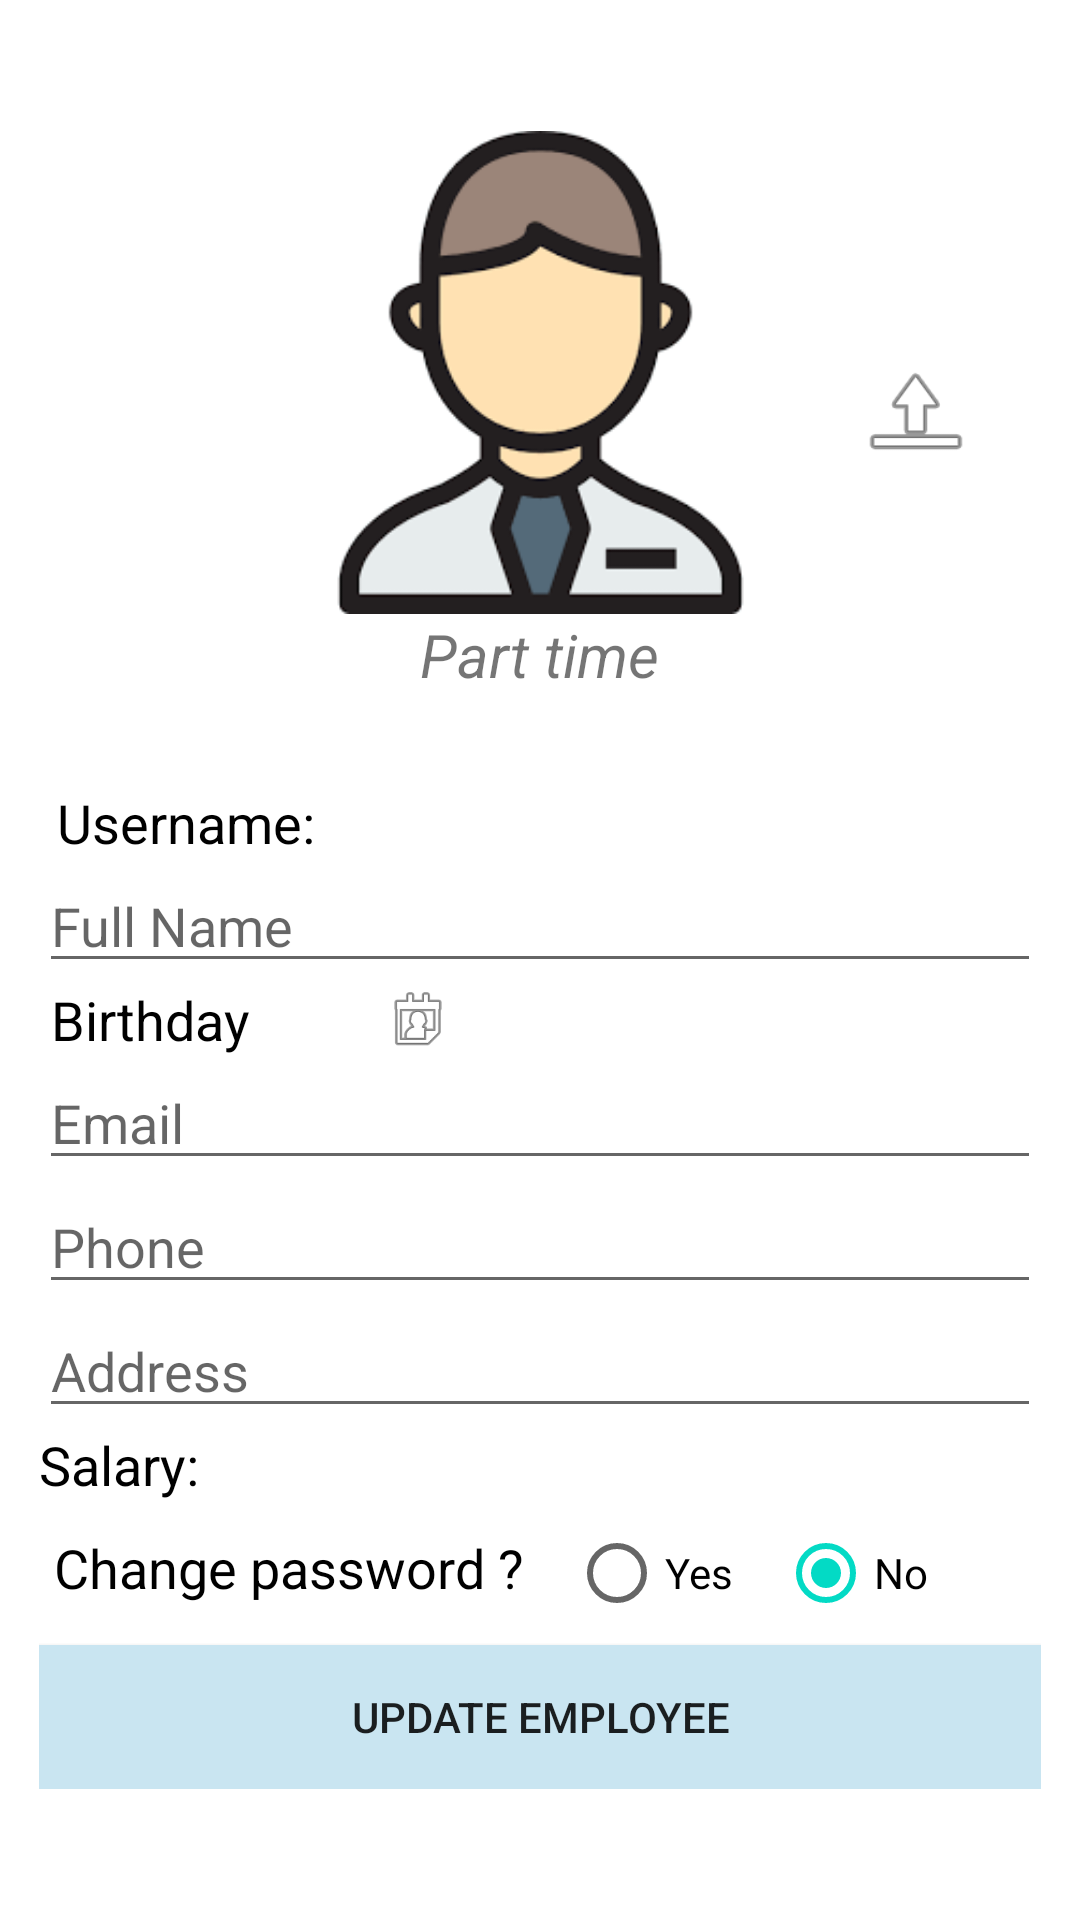

Named icons in this screenshot (1080px×1920px) and their bounding boxes, (x1, y1, x2, y2):
calendar: (394, 992, 442, 1046)
upload: (870, 373, 962, 450)
